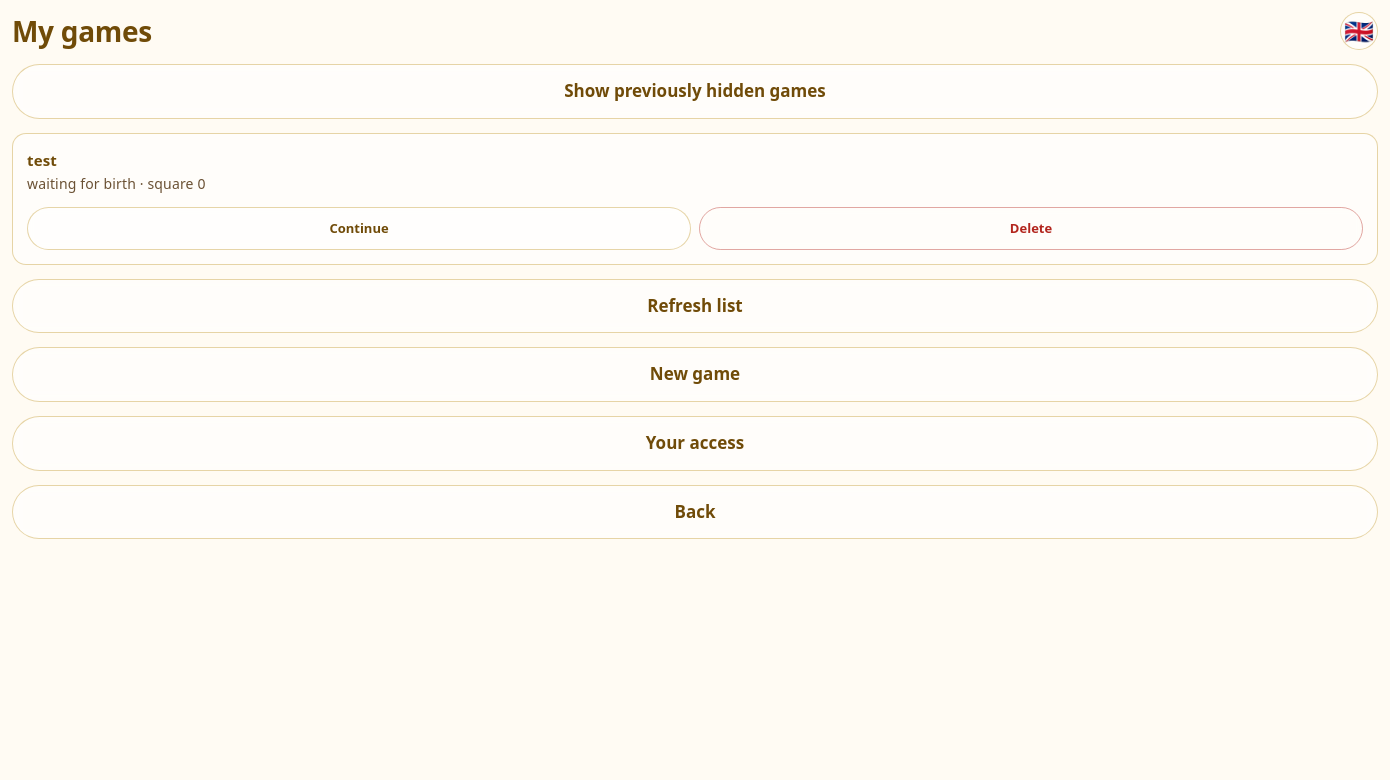
Test: offers a way to reveal previously hidden games for real deletion
Click the button "Show previously hidden games". click: (695, 91)
box: [12,64,1378,119]
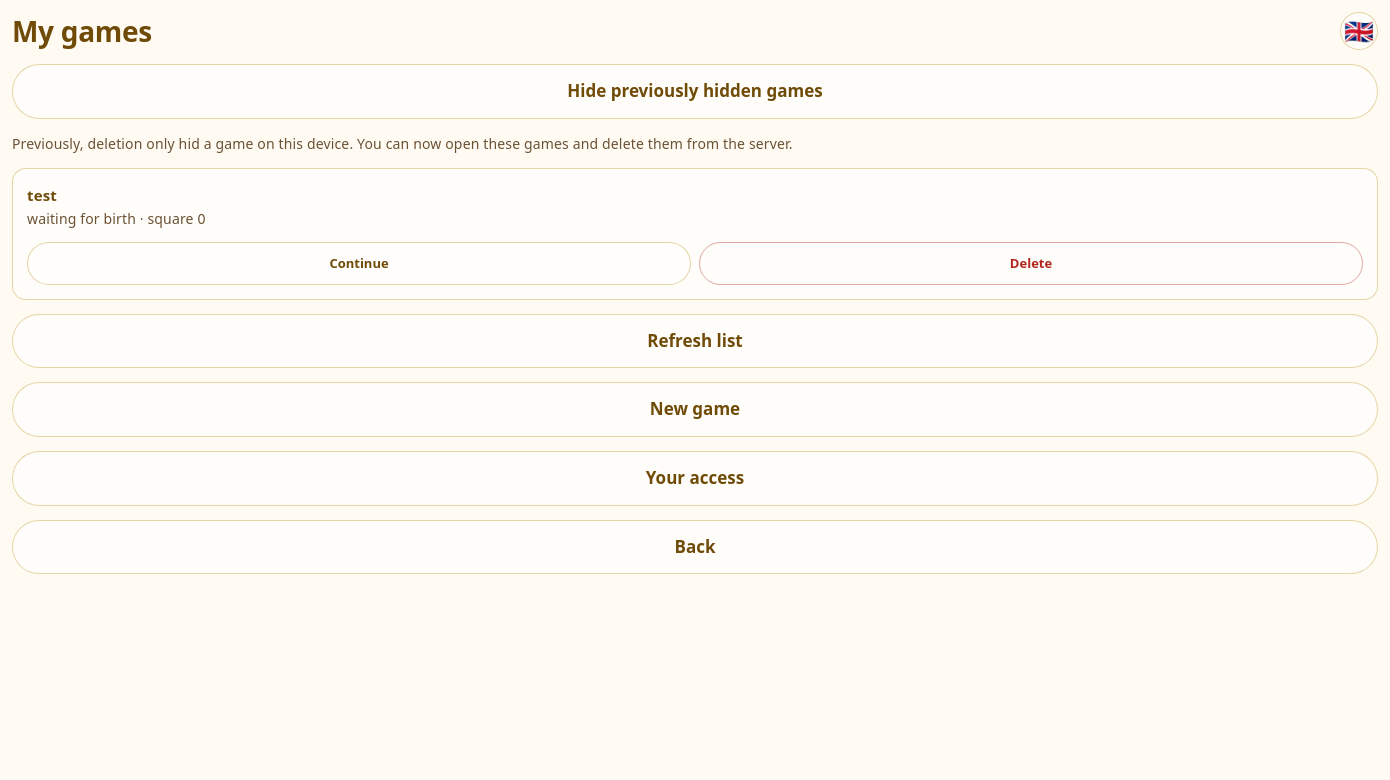
Check: the text "delete them from the server" is shown, box [12,134,793,153]
